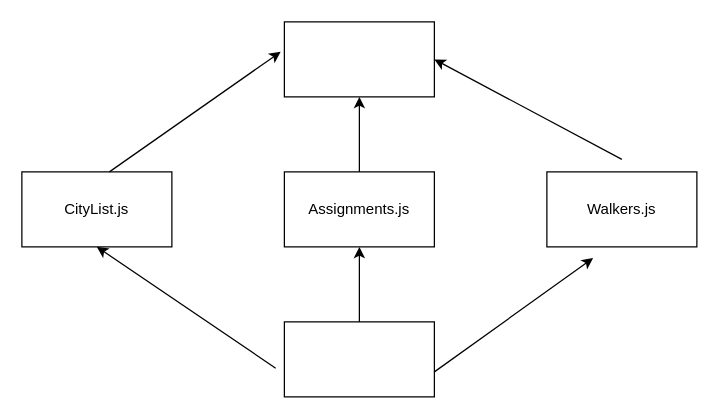
This 719x419 diagram has some shape labels left out. Here are the shapes that lost their labels. From the top down, the centre of each, then its label:
At pixel 358 59: "main.js".
At pixel 358 359: "database.js".
